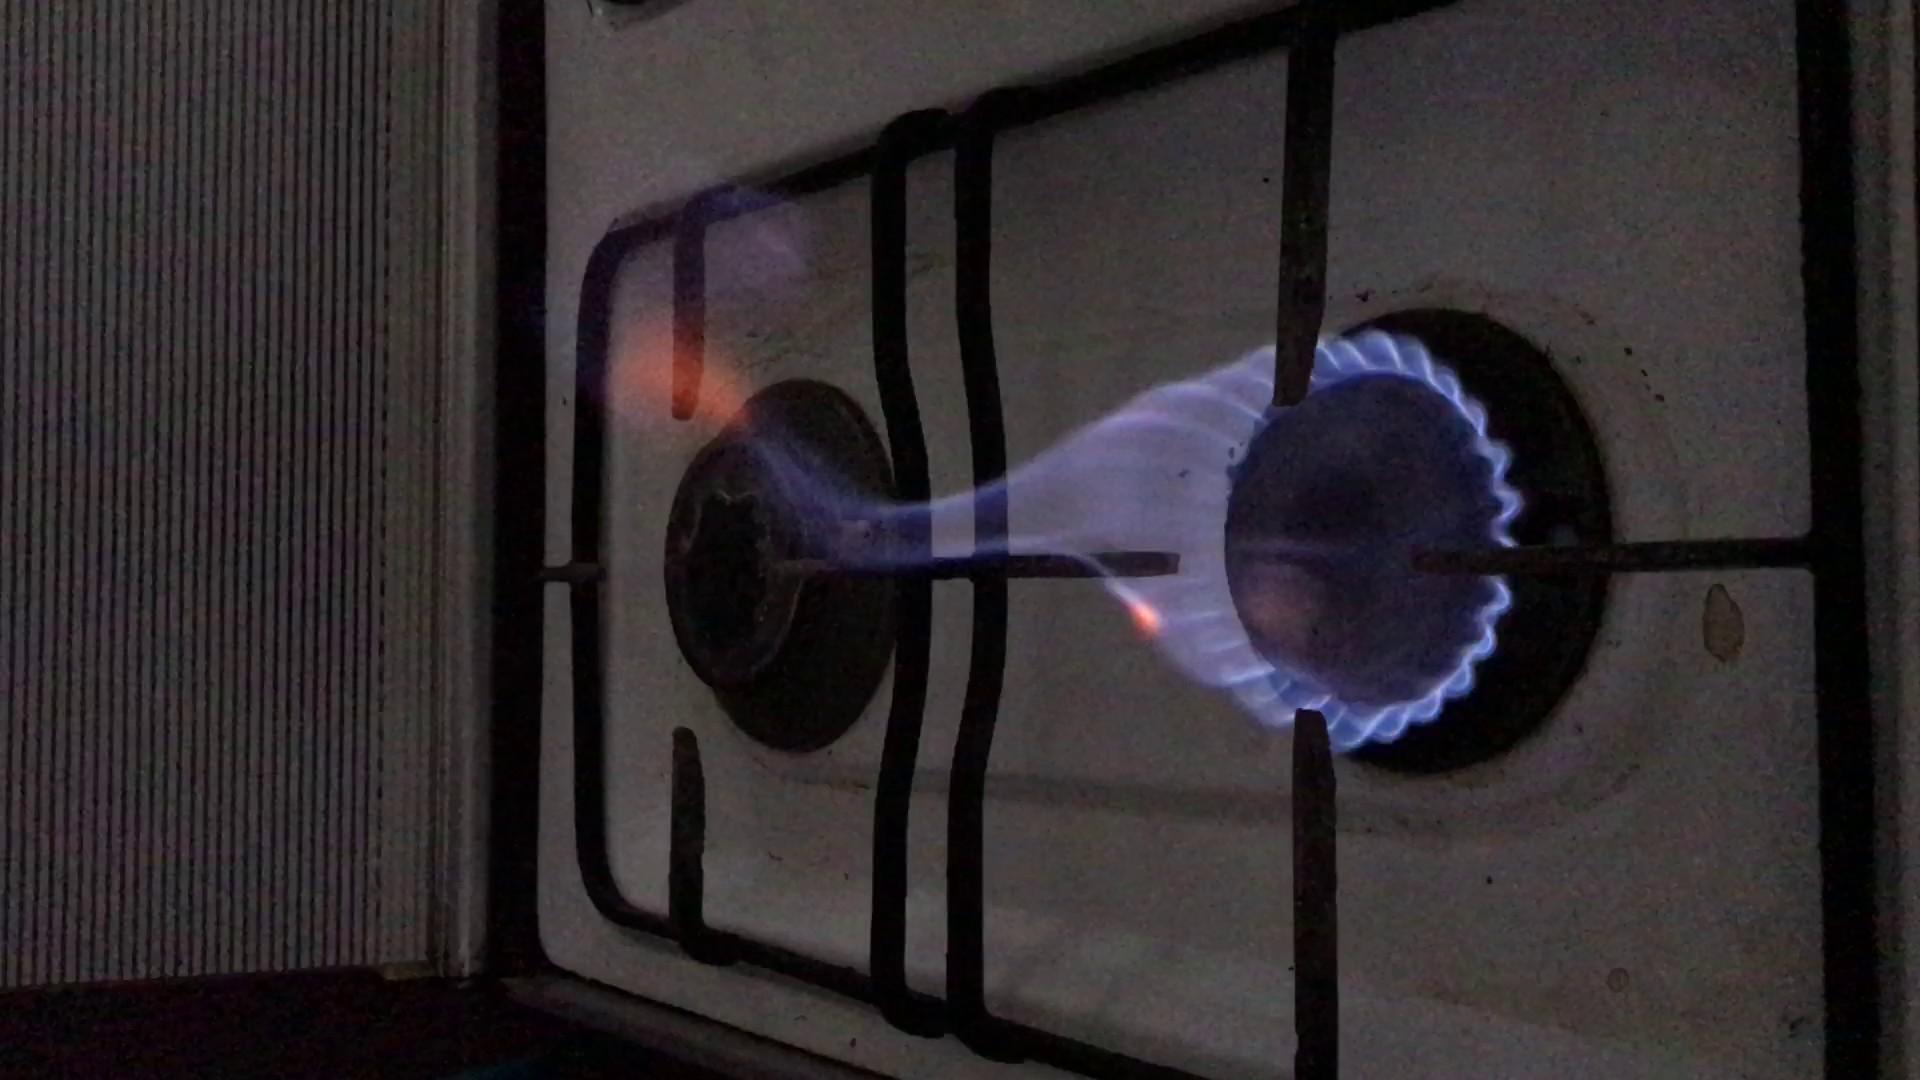fire: (823, 401, 1538, 715)
